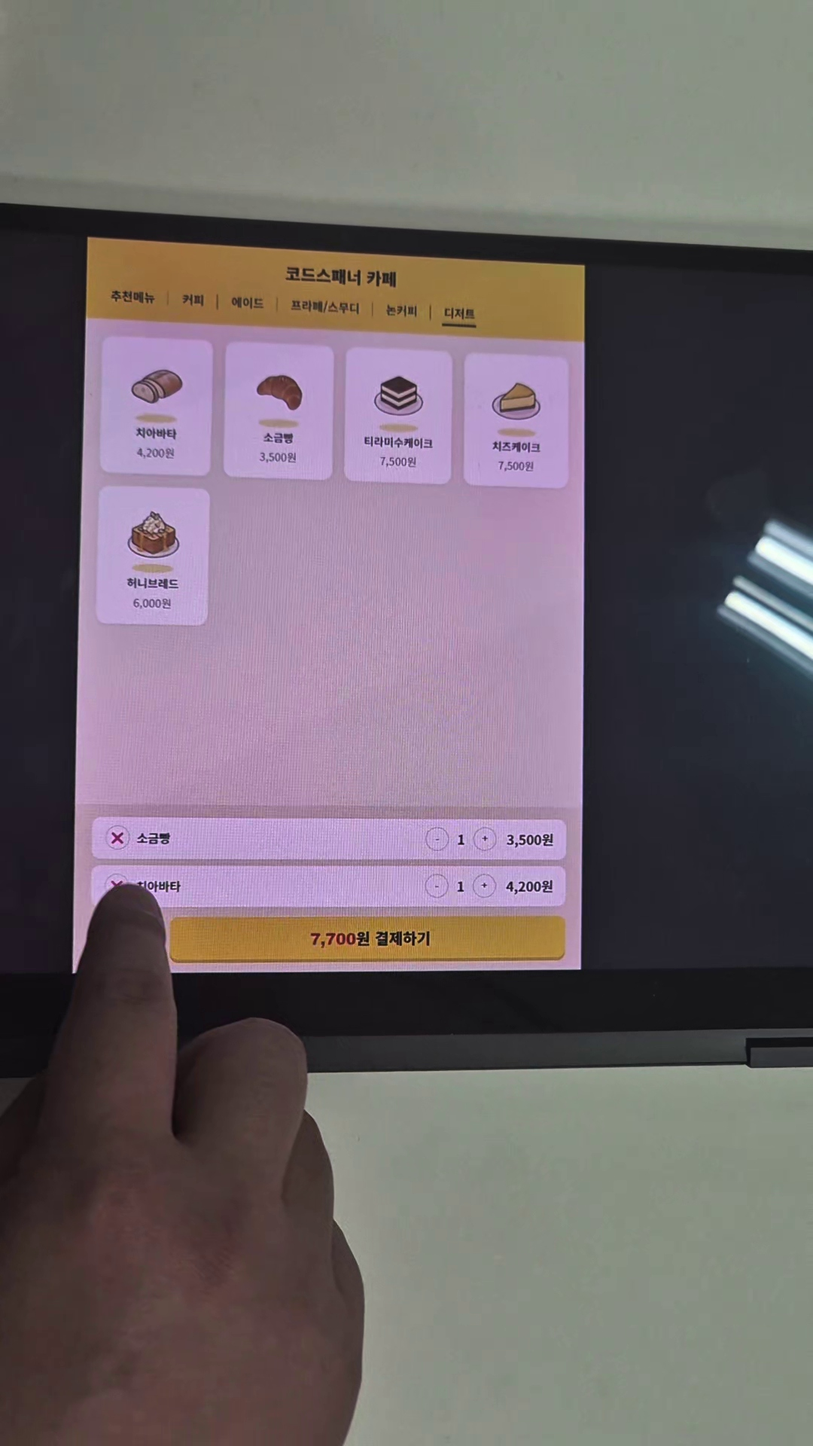action_button: (171, 918, 567, 961)
cart_item: (92, 818, 569, 860), (91, 867, 567, 906)
category_tab: (291, 298, 360, 314), (110, 287, 154, 304), (232, 293, 263, 312), (445, 306, 478, 322), (386, 303, 420, 318), (181, 290, 205, 306)
menu_back: (100, 338, 212, 477), (224, 340, 334, 481), (95, 486, 206, 624), (346, 347, 453, 483), (463, 352, 570, 485)
menu_name: (363, 434, 436, 451), (491, 440, 542, 455), (125, 577, 182, 589), (133, 427, 179, 440), (264, 432, 295, 444)
menu_price: (378, 454, 419, 470), (129, 597, 172, 611), (258, 450, 298, 464), (135, 447, 176, 460), (494, 461, 536, 472)
